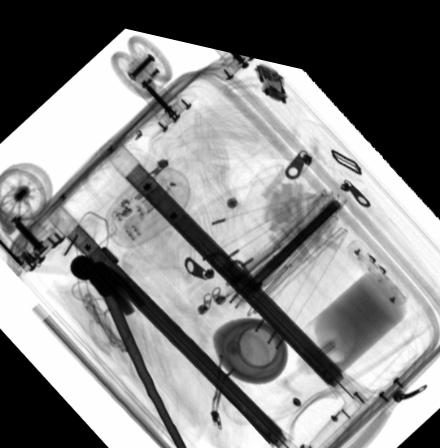Hammer: (68, 249, 186, 443)
